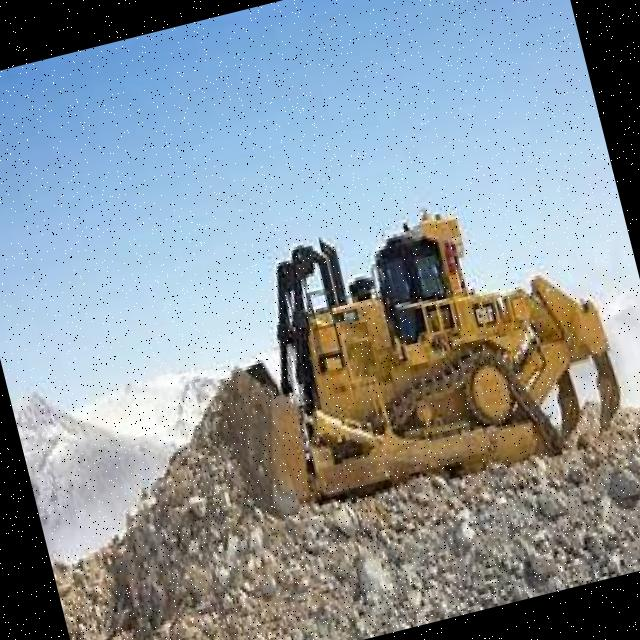Bulldozer: (166, 121, 640, 545)
